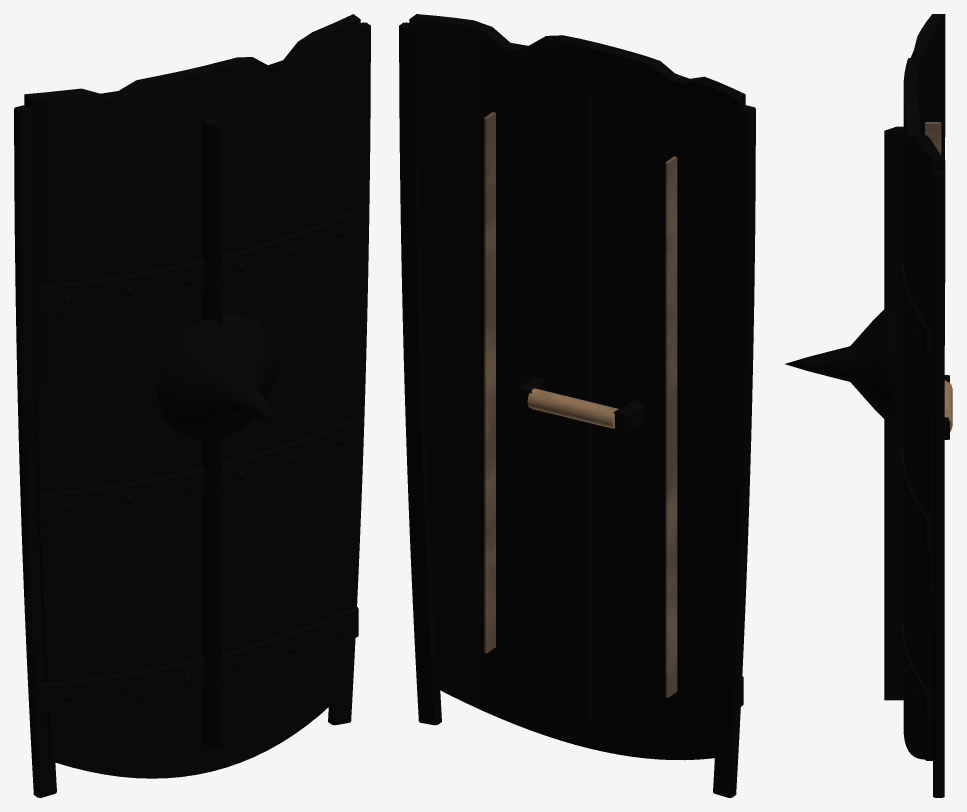
File: Enemy_Shield.fbx
3 views of the same model, side by side, from view 1: azimuth 30°, elevation 25°; view 2: azimuth 150°, elevation 25°; view 3: azimuth 270°, elevation 25° (orthographic). The views are drawn at different scales.
Parts seen in each view (by area): view 1: Enemy_Shield; view 2: Enemy_Shield; view 3: Enemy_Shield.
Boxes of the visible parts, left/top/right/bottom form: Enemy_Shield: left=14, top=14, right=370, bottom=797; Enemy_Shield: left=399, top=14, right=755, bottom=797; Enemy_Shield: left=785, top=14, right=952, bottom=797.
Size of the model in its own units: 0.622 by 1.18 by 0.281.
1 material, 1 textured.
